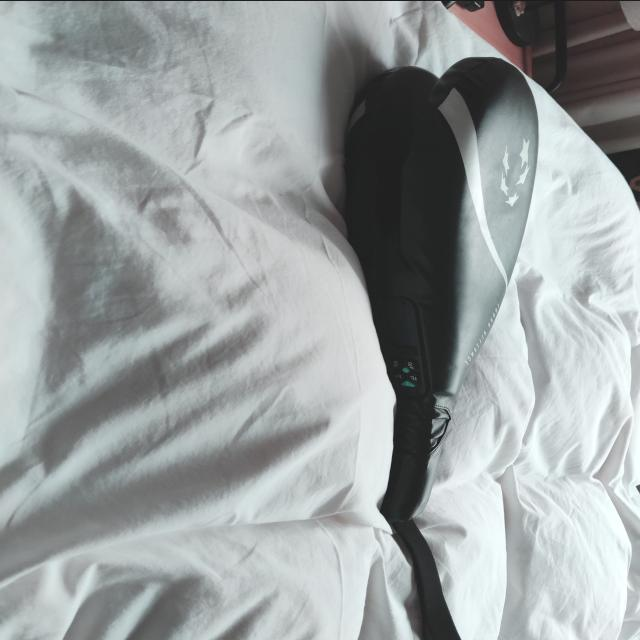paddle: (341, 54, 541, 522)
